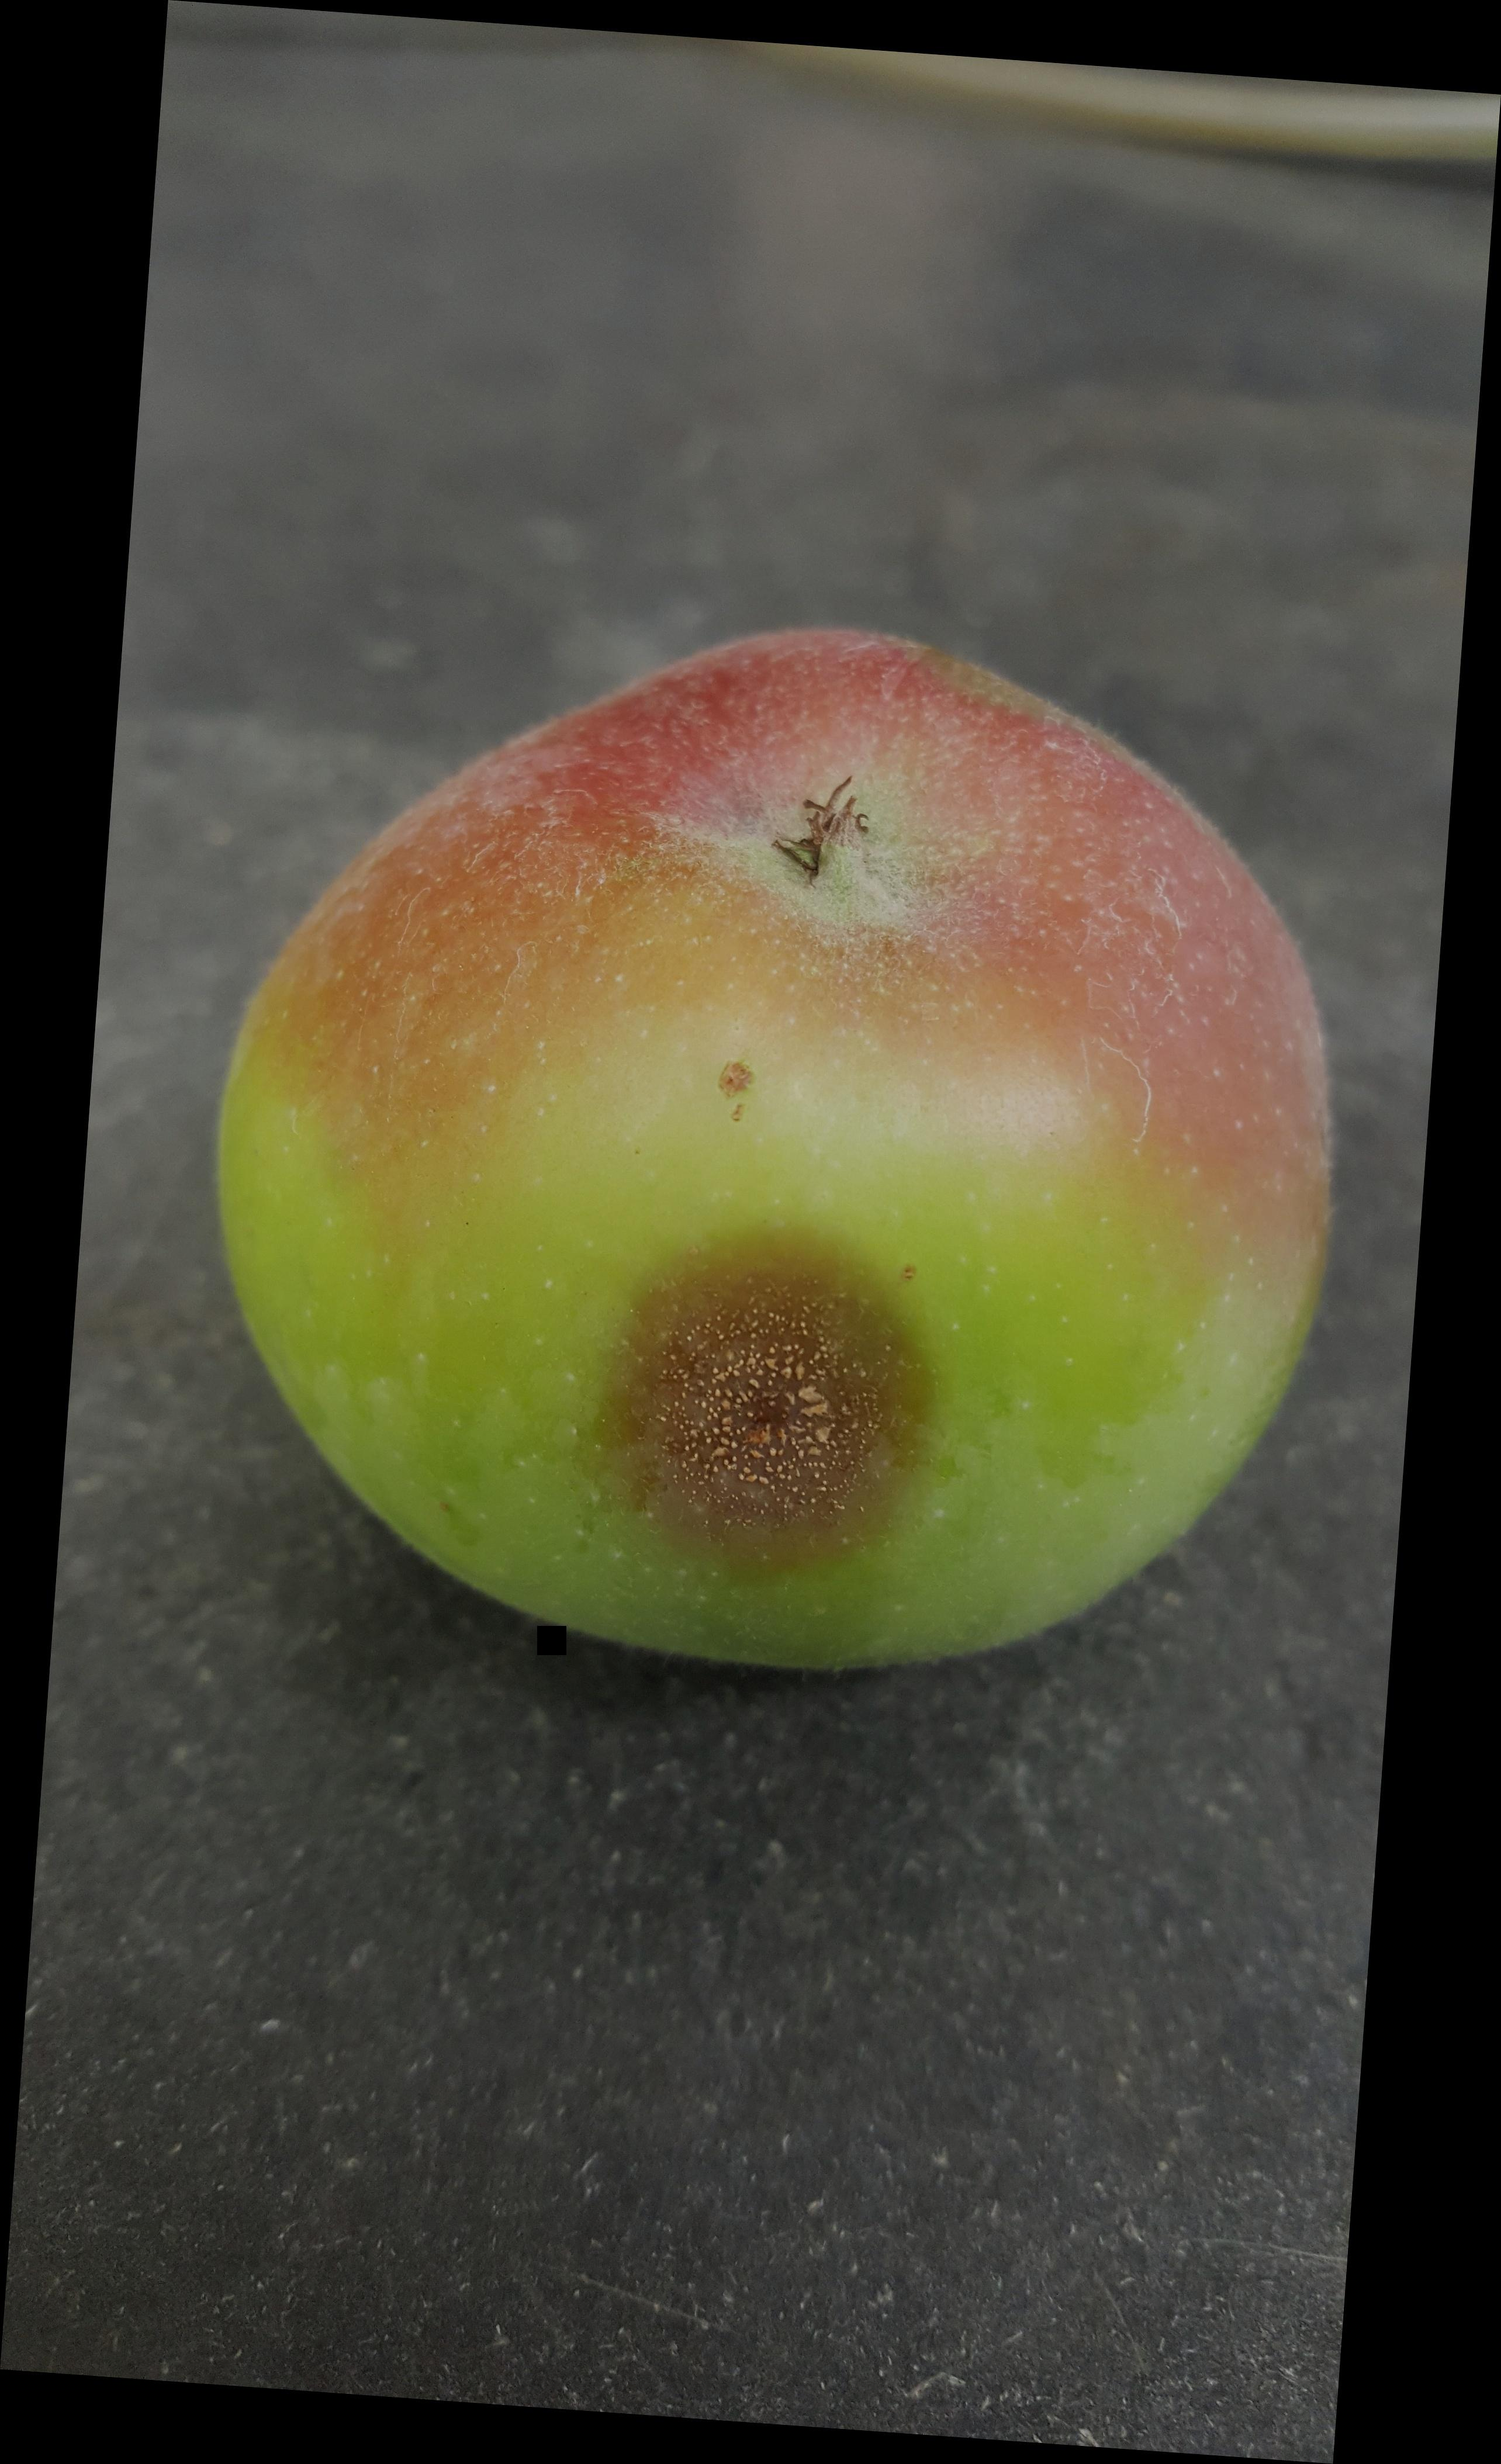rotten apple: (206, 623, 1344, 1693)
